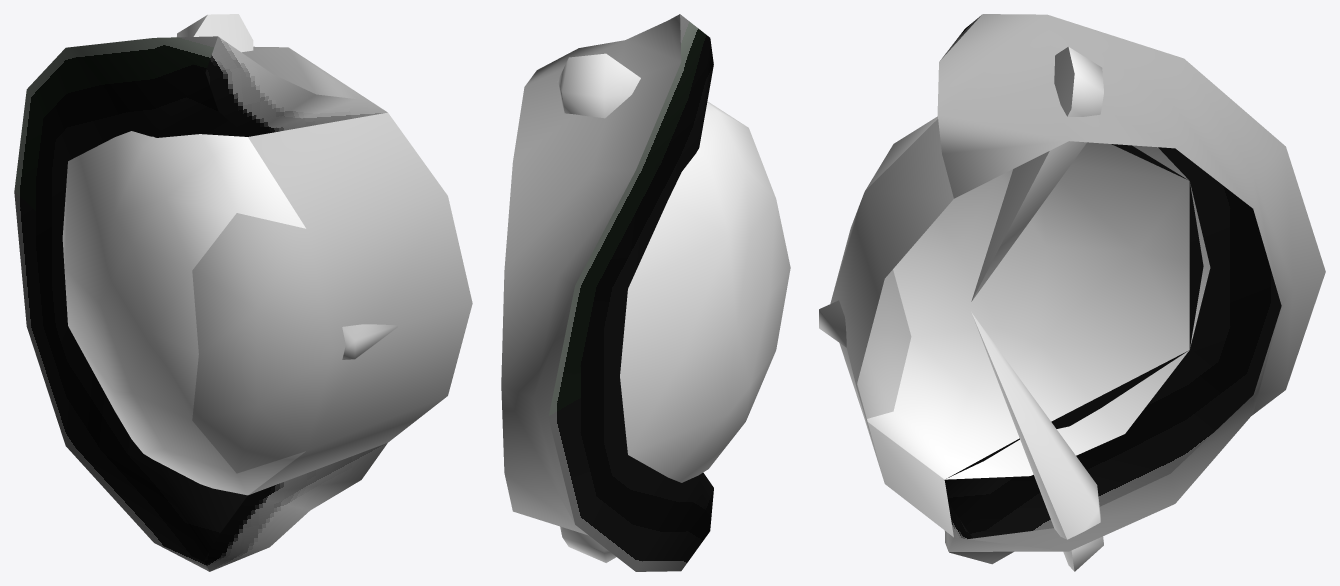
Rendered from girl01b.dae.
3 views of the same model, side by side, from view 1: azimuth 30°, elevation 25°; view 2: azimuth 150°, elevation 25°; view 3: azimuth 270°, elevation 25° (orthographic). The views are drawn at different scales.
Parts seen in each view (by area): view 1: vsn_mesh_1_, vsn_mesh_0_, vsn_mesh_2_; view 2: vsn_mesh_1_; view 3: vsn_mesh_1_, vsn_mesh_0_, vsn_mesh_2_.
Boxes of the visible parts, <box> form: vsn_mesh_1_: <box>14,14,387,571</box>; vsn_mesh_0_: <box>248,112,472,494</box>; vsn_mesh_2_: <box>192,213,333,473</box>; vsn_mesh_1_: <box>501,14,790,571</box>; vsn_mesh_1_: <box>865,14,1325,571</box>; vsn_mesh_0_: <box>819,119,953,537</box>; vsn_mesh_2_: <box>830,194,911,418</box>.
Size of the model in its own units: 15.5 by 28.44 by 23.65.
